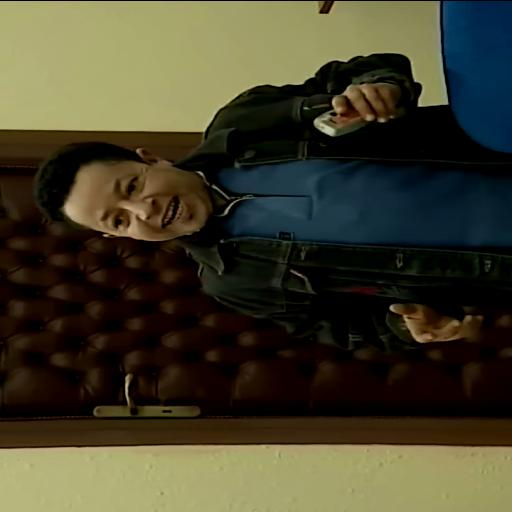fouchika: (35, 141, 225, 240)
